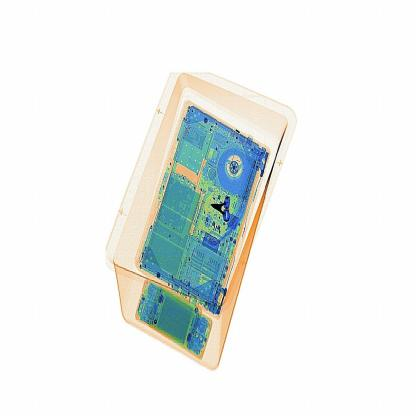gun: (201, 178, 239, 230)
